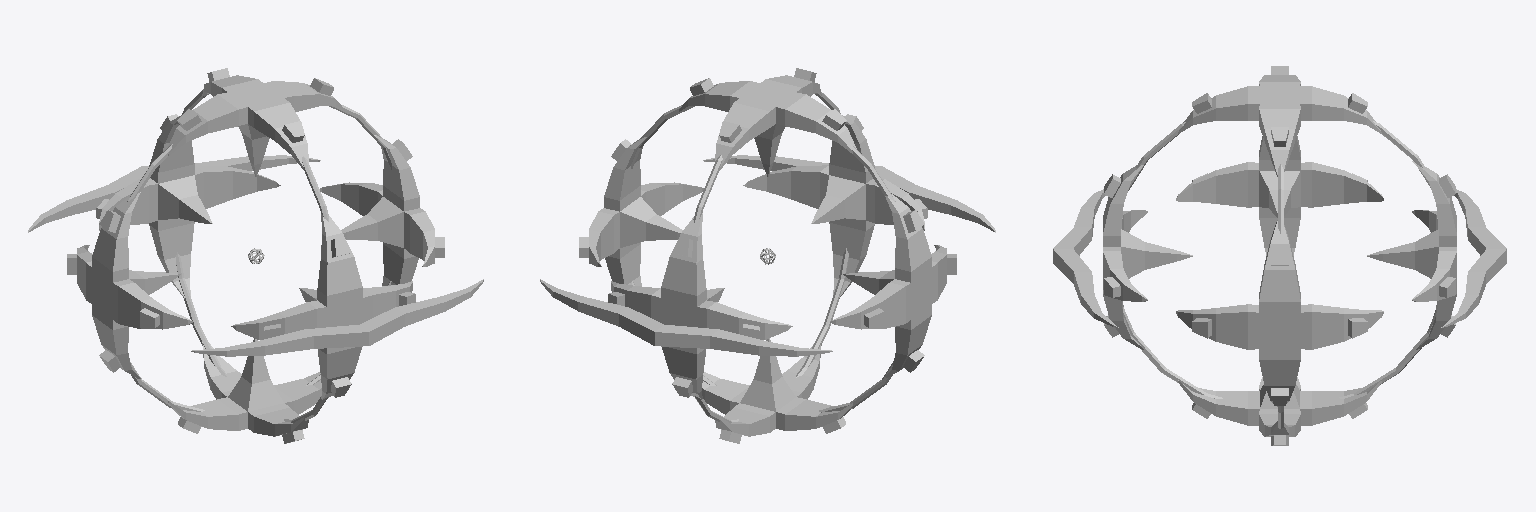
File: alient_thing.obj
3 views of the same model, side by side, from view 1: azimuth 30°, elevation 25°; view 2: azimuth 150°, elevation 25°; view 3: azimuth 270°, elevation 25° (orthographic).
Visible parts, largest first — view 1: polySurface12; view 2: polySurface12; view 3: polySurface12.
Part boxes in pixels (left/top/right/bottom): polySurface12: left=28, top=68, right=483, bottom=443; polySurface12: left=540, top=68, right=995, bottom=443; polySurface12: left=1053, top=66, right=1506, bottom=445.
Bounding box in the file's own units: 19.95 × 19.95 × 25.53.